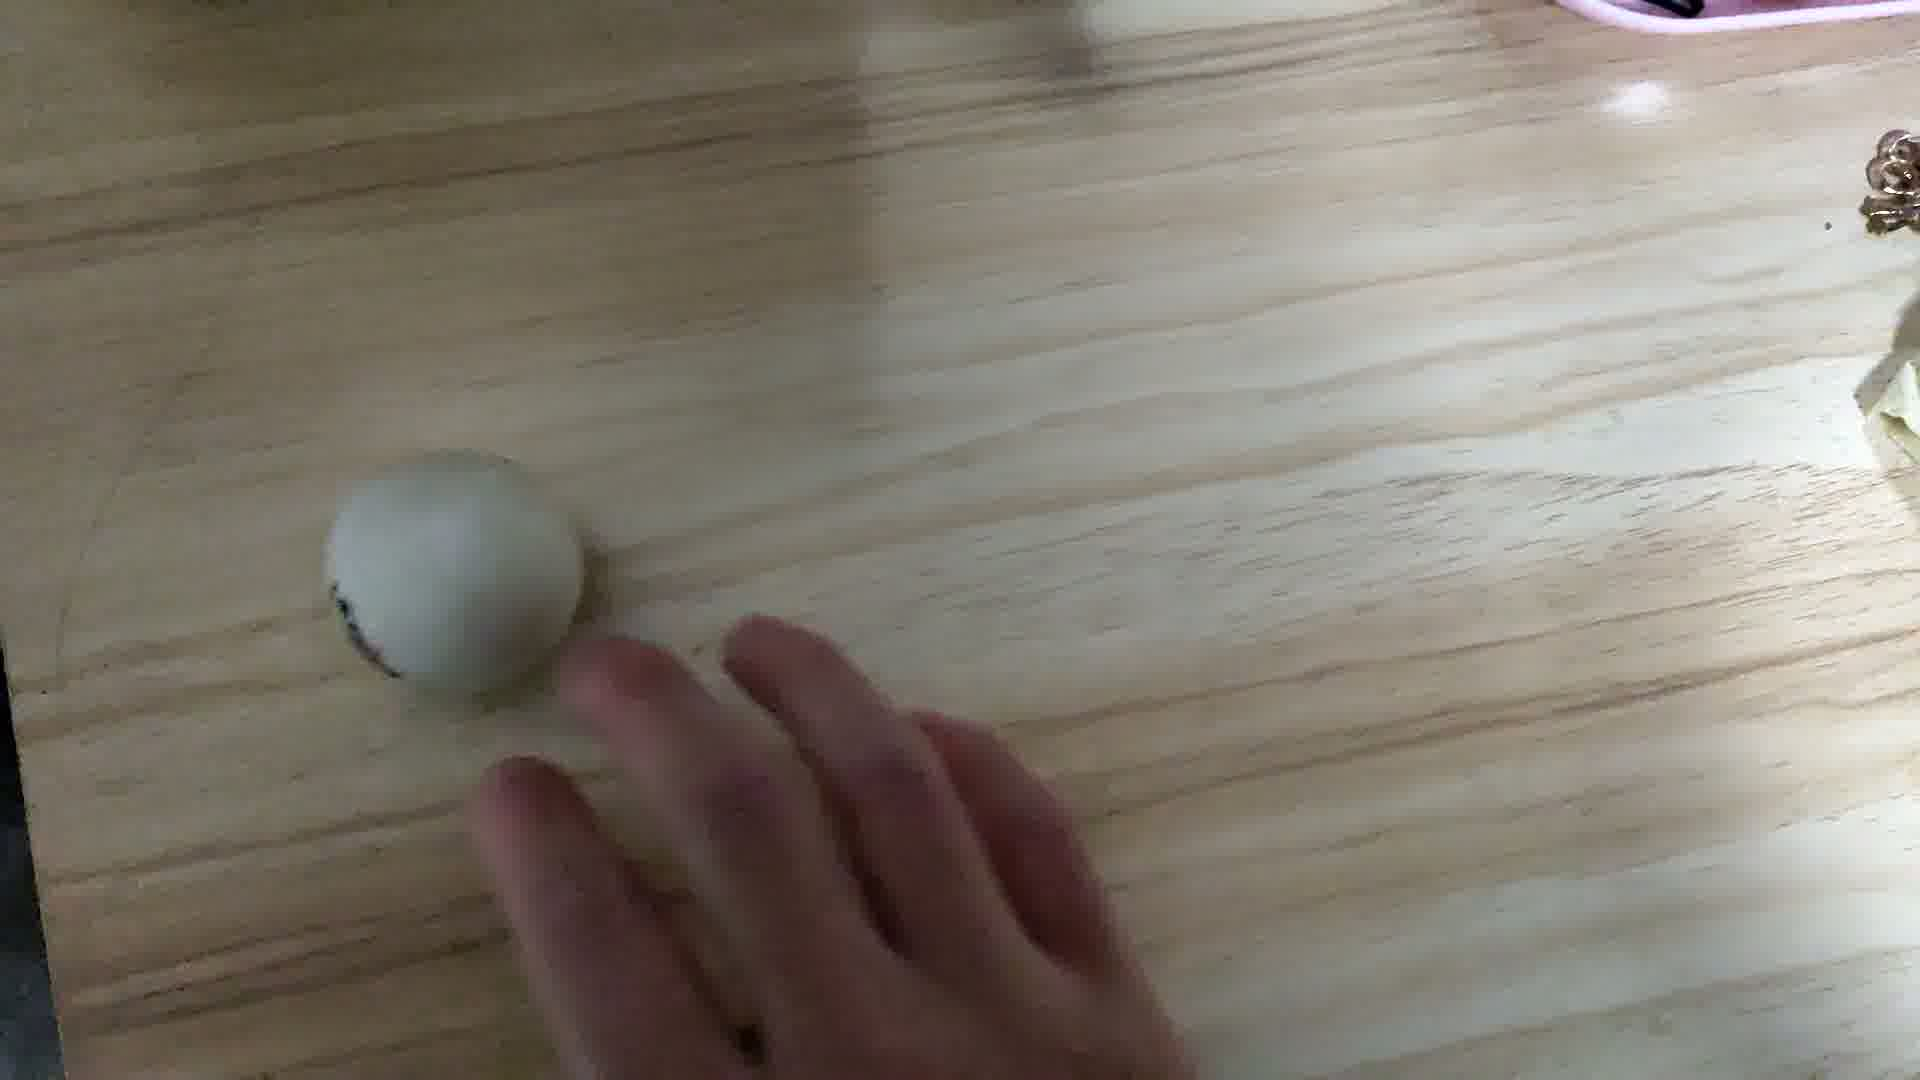Ball: (330, 450, 591, 684)
